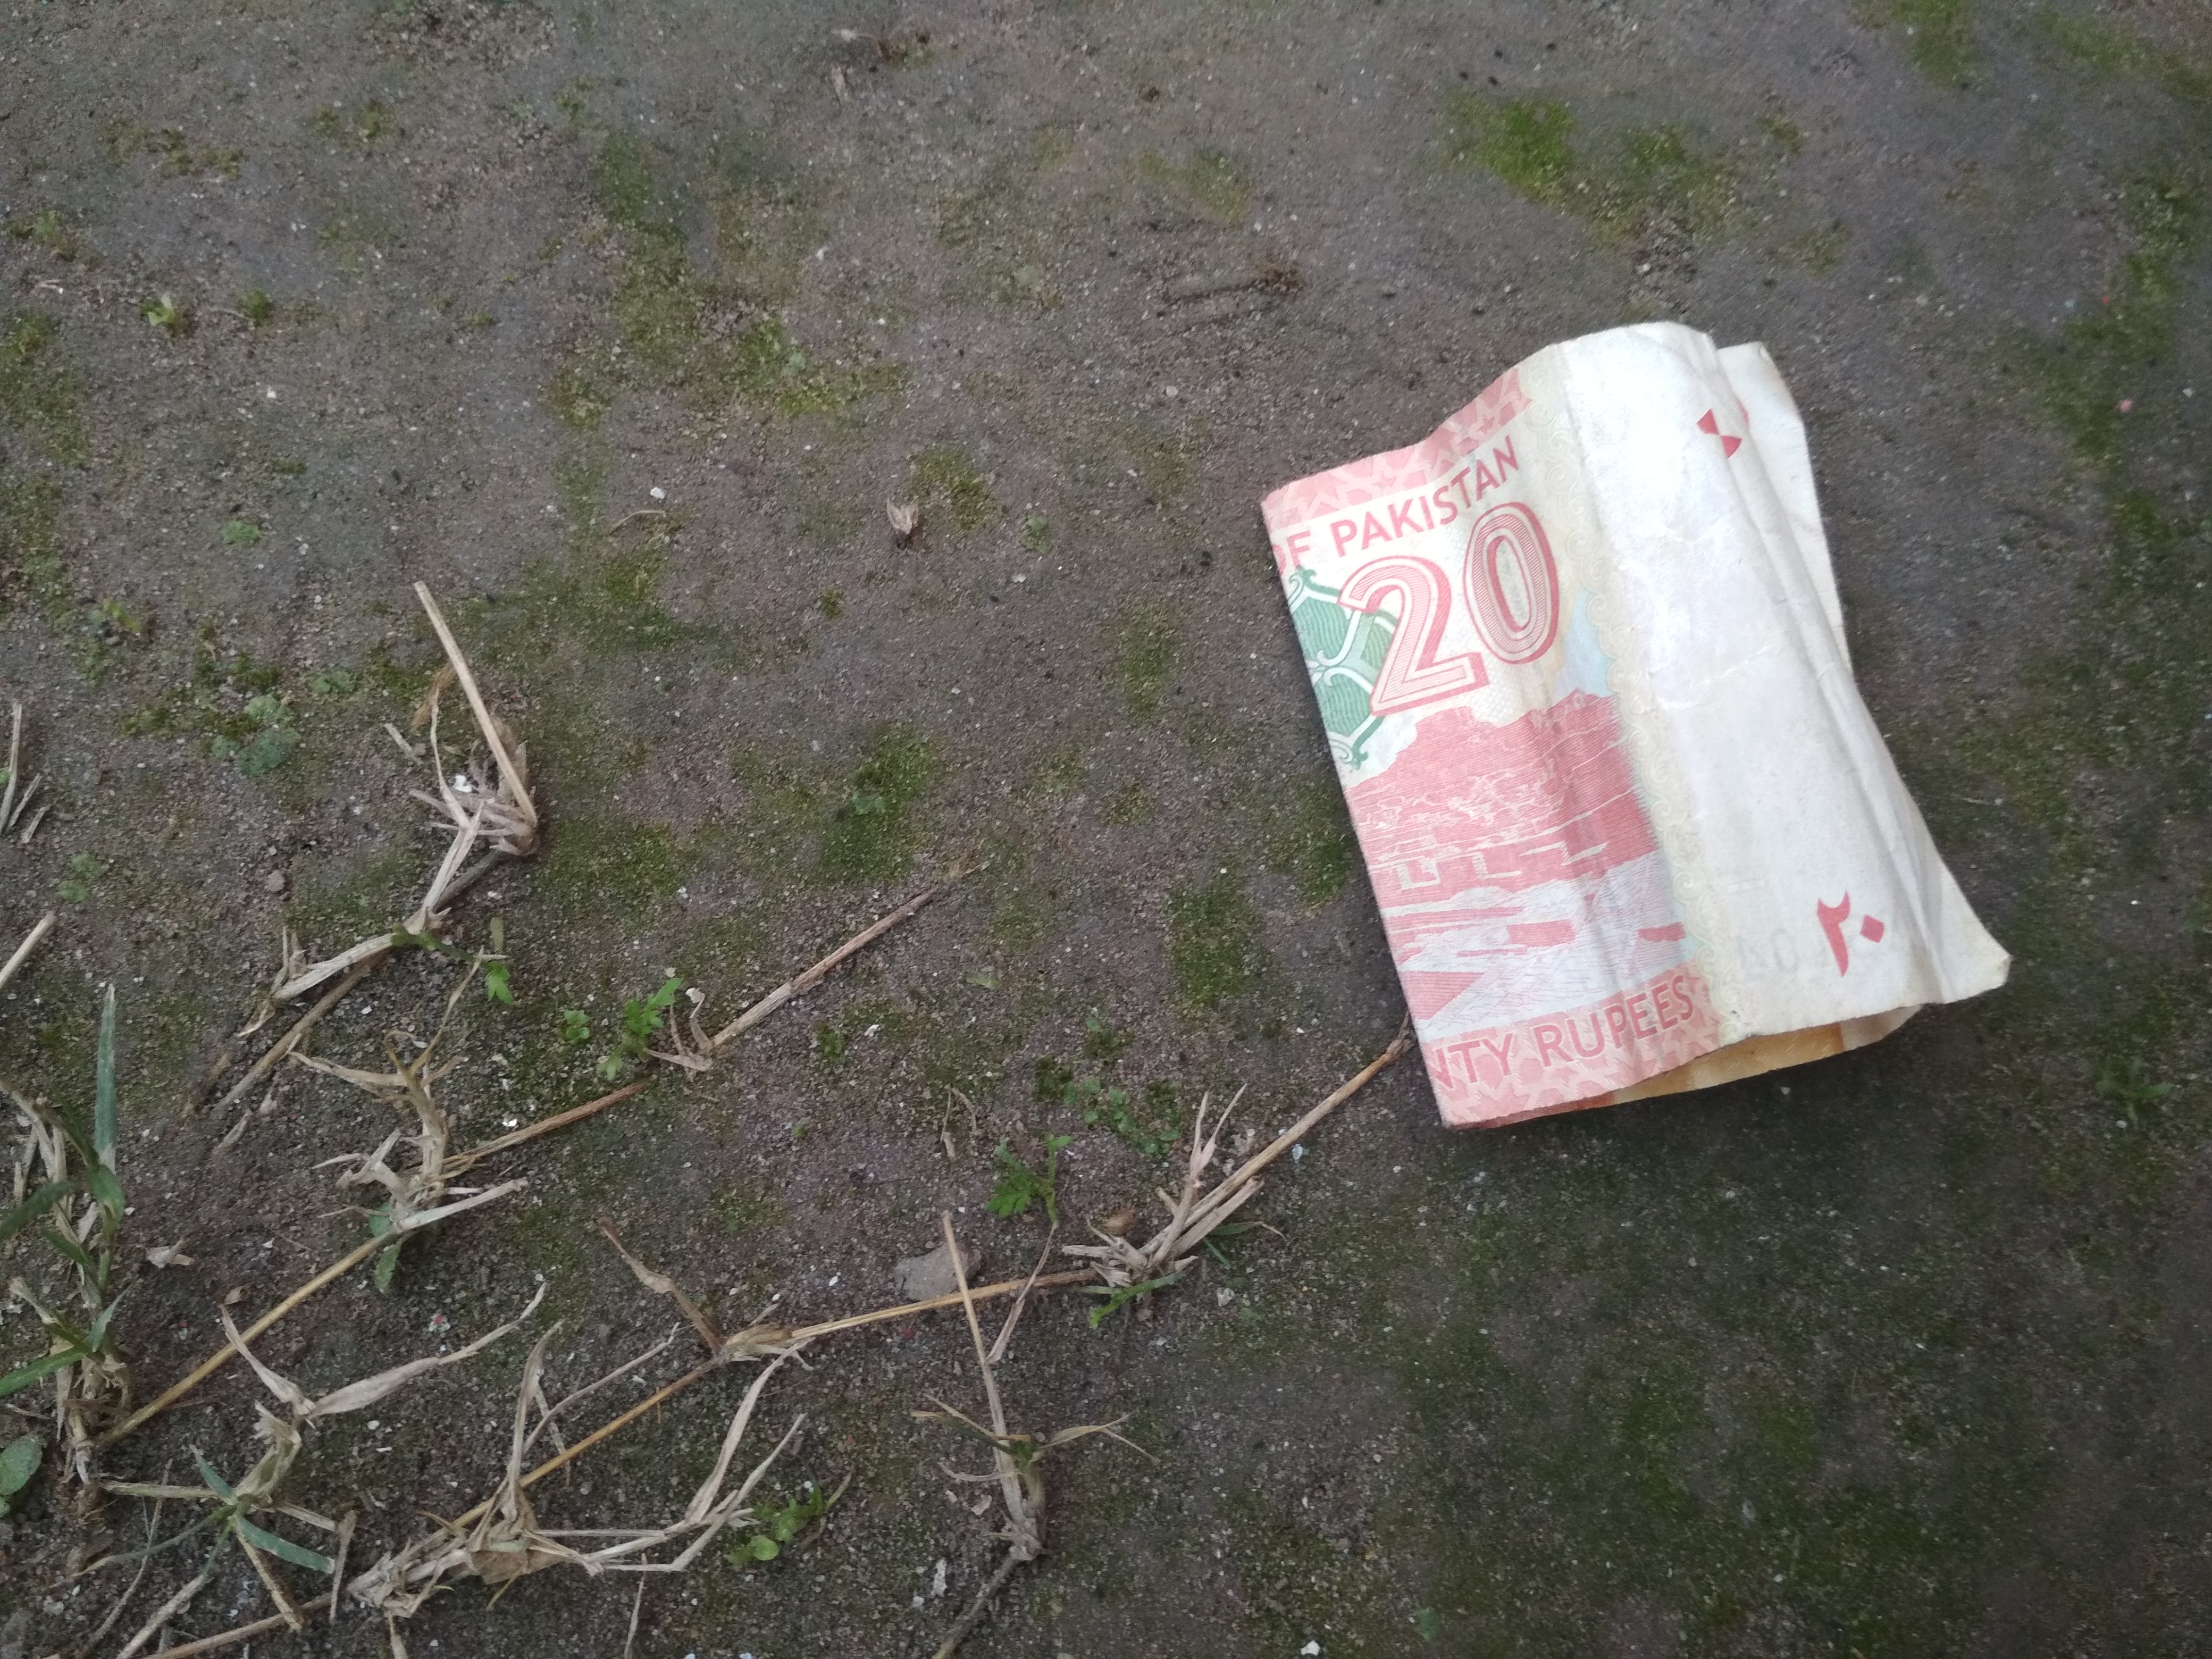20 rupee: (1244, 321, 2045, 1157)
